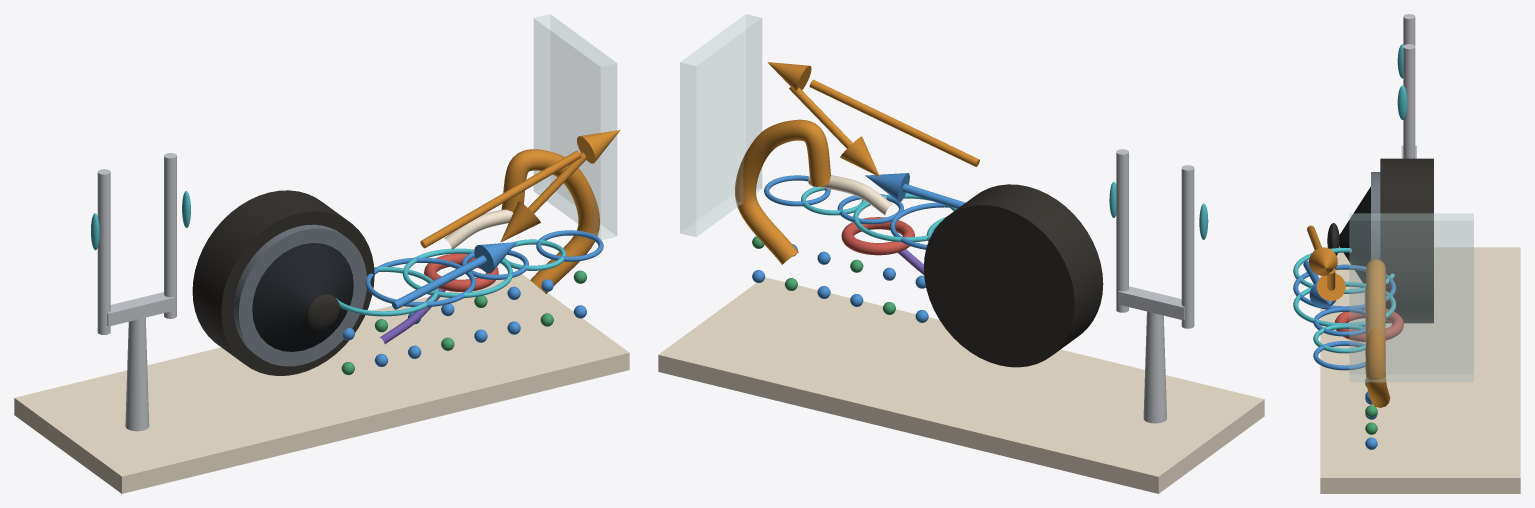
File: physics-sound-apparatus-suite.glb
3 renders of one model, left to right at view 1: azimuth 30°, elevation 25°; view 2: azimuth 150°, elevation 25°; view 3: azimuth 270°, elevation 25°, orthographic. The views are drawn at different scales.
Parts seen in each view (by area): view 1: acoustic-bench-base, echo-reflecting-wall, speaker-cabinet, speaker-cone-visible-driver, speaker-metal-rim, outer-ear-pinna-helix, tuning-fork-handle, tuning-fork-left-prong, tuning-fork-right-prong, echo-path-to-wall-shaft, tuning-fork-bridge, pressure-wave-front-2 (+11 smaller); view 2: acoustic-bench-base, speaker-cabinet, echo-reflecting-wall, outer-ear-pinna-helix, tuning-fork-handle, tuning-fork-left-prong, tuning-fork-right-prong, echo-path-to-wall-shaft, cochlea-spiral-hearing-organ, tuning-fork-bridge, inner-ear-canal, echo-path-to-wall-head (+5 smaller); view 3: acoustic-bench-base, echo-reflecting-wall, speaker-cabinet, outer-ear-pinna-helix, speaker-cone-visible-driver, tuning-fork-right-prong, speaker-metal-rim, cochlea-spiral-hearing-organ, pressure-wave-front-3, echo-path-to-wall-head, pressure-wave-front-2, pressure-wave-front-4 (+8 smaller).
Boxes of the visible parts, bbox=[...] form: acoustic-bench-base: bbox=[14, 274, 629, 493]; echo-reflecting-wall: bbox=[534, 14, 616, 239]; speaker-cabinet: bbox=[192, 190, 374, 375]; speaker-cone-visible-driver: bbox=[252, 243, 353, 351]; speaker-metal-rim: bbox=[233, 224, 366, 366]; outer-ear-pinna-helix: bbox=[501, 149, 599, 293]; tuning-fork-handle: bbox=[125, 317, 149, 431]; tuning-fork-left-prong: bbox=[97, 169, 110, 334]; tuning-fork-right-prong: bbox=[164, 153, 176, 318]; echo-path-to-wall-shaft: bbox=[420, 150, 581, 248]; tuning-fork-bridge: bbox=[107, 292, 174, 326]; pressure-wave-front-2: bbox=[365, 257, 475, 307]; acoustic-bench-base: bbox=[658, 277, 1264, 493]; speaker-cabinet: bbox=[923, 184, 1103, 367]; echo-reflecting-wall: bbox=[680, 14, 761, 236]; outer-ear-pinna-helix: bbox=[735, 119, 831, 264]; tuning-fork-handle: bbox=[1143, 310, 1166, 423]; tuning-fork-left-prong: bbox=[1181, 165, 1194, 328]; tuning-fork-right-prong: bbox=[1116, 149, 1128, 312]; echo-path-to-wall-shaft: bbox=[809, 79, 979, 166]; cochlea-spiral-hearing-organ: bbox=[841, 217, 914, 255]; tuning-fork-bridge: bbox=[1118, 286, 1184, 320]; inner-ear-canal: bbox=[808, 175, 892, 215]; echo-path-to-wall-head: bbox=[767, 62, 811, 91]; acoustic-bench-base: bbox=[1320, 247, 1520, 493]; echo-reflecting-wall: bbox=[1349, 213, 1473, 381]; speaker-cabinet: bbox=[1380, 158, 1433, 323]; outer-ear-pinna-helix: bbox=[1365, 259, 1390, 407]; speaker-cone-visible-driver: bbox=[1339, 186, 1370, 283]; tuning-fork-right-prong: bbox=[1403, 44, 1415, 158]; speaker-metal-rim: bbox=[1371, 172, 1380, 259]; cochlea-spiral-hearing-organ: bbox=[1334, 308, 1403, 342]; pressure-wave-front-3: bbox=[1293, 281, 1395, 326]; echo-path-to-wall-head: bbox=[1309, 247, 1337, 275]; pressure-wave-front-2: bbox=[1293, 264, 1395, 309]; pressure-wave-front-4: bbox=[1313, 307, 1365, 336].
Size of what is drawn, in the model's own units: 2.47 by 1.36 by 1.02.
